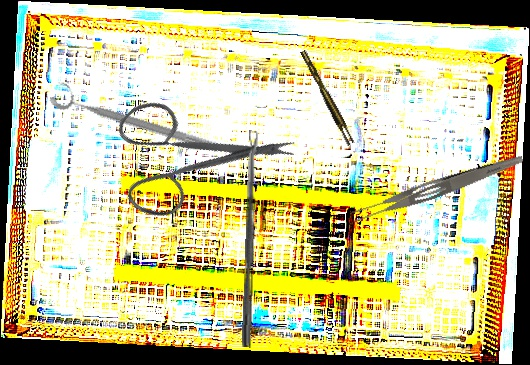Dressing Forceps: (349, 146, 525, 228)
Fixation Ring: (47, 79, 224, 157)
Iris Scissors: (84, 42, 302, 259)
Surgical Spoon: (241, 130, 260, 348)
Tissue Forceps: (300, 47, 355, 148)
